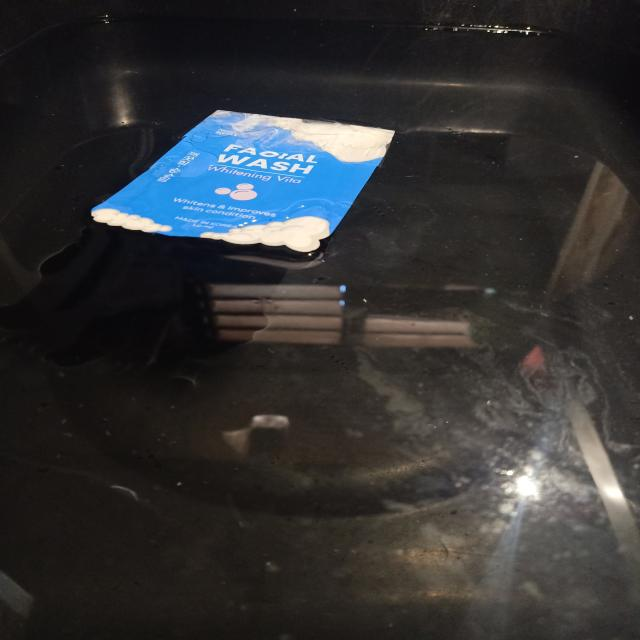Plastic Wrapper: (100, 111, 394, 252)
